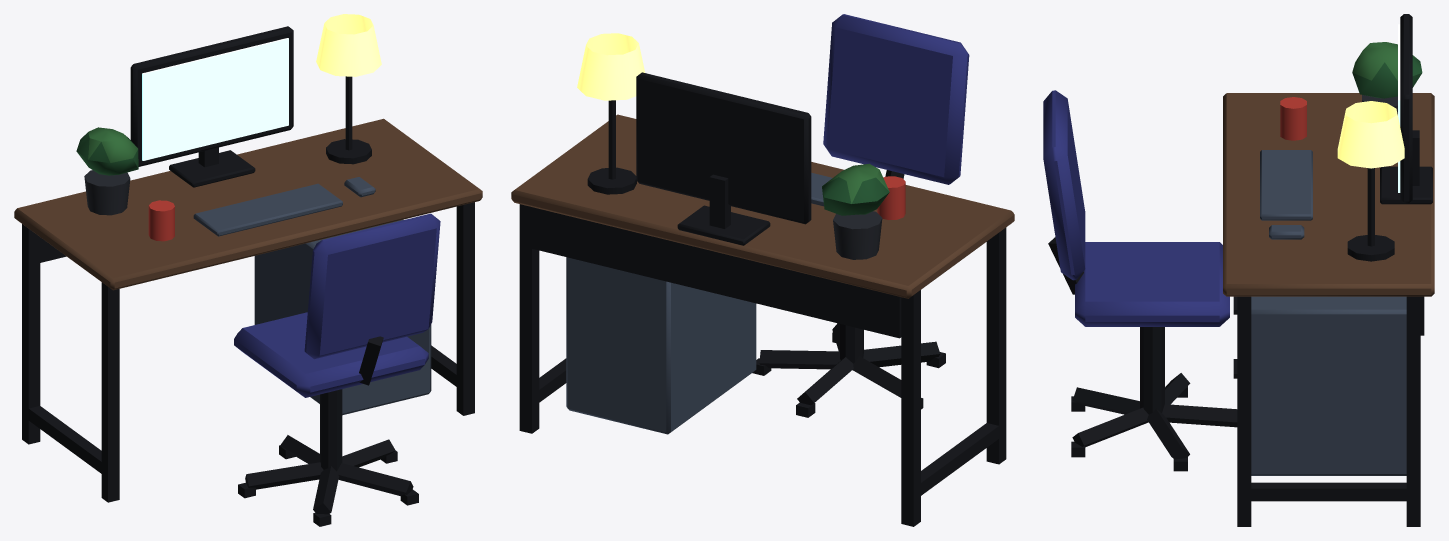
File: desk_v2.glb
3 views of the same model, side by side, from view 1: azimuth 30°, elevation 25°; view 2: azimuth 150°, elevation 25°; view 3: azimuth 270°, elevation 25° (orthographic). The views are drawn at different scales.
Parts seen in each view (by area): view 1: body, screen, light; view 2: body, light; view 3: body, light.
Boxes of the visible parts, left/top/right/bottom form: body: left=14, top=26, right=482, bottom=526; screen: left=142, top=38, right=288, bottom=160; light: left=316, top=14, right=381, bottom=76; body: left=511, top=14, right=1014, bottom=526; light: left=577, top=33, right=645, bottom=100; body: left=1043, top=14, right=1434, bottom=526; light: left=1337, top=101, right=1404, bottom=168.
Bounding box in the file's own units: 1.3 × 1.19 × 1.11.
